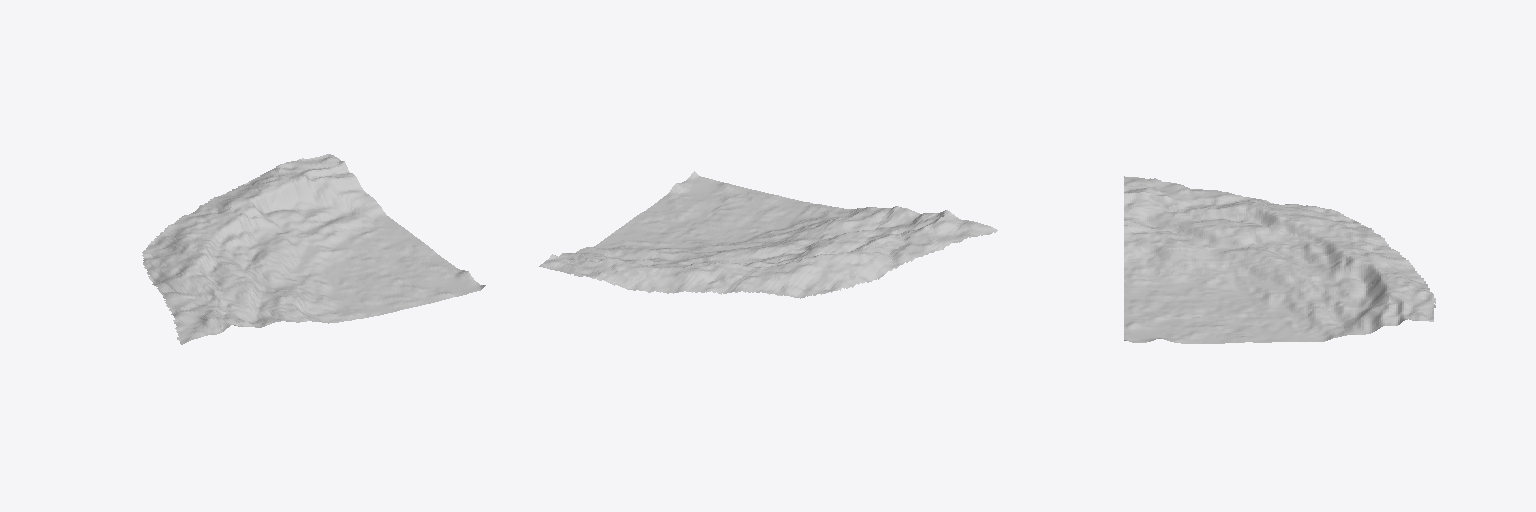
Rendered from landscape1_4.obj.
3 renders of one model, left to right at view 1: azimuth 30°, elevation 25°; view 2: azimuth 150°, elevation 25°; view 3: azimuth 270°, elevation 25°, orthographic.
Parts seen in each view (by area): view 1: landscape1.001; view 2: landscape1.001; view 3: landscape1.001.
Part boxes in pixels (bbox=[...]): landscape1.001: bbox=[142, 154, 485, 344]; landscape1.001: bbox=[539, 171, 997, 298]; landscape1.001: bbox=[1124, 176, 1435, 343].
Bounding box in the file's own units: 212 × 18.68 × 189.